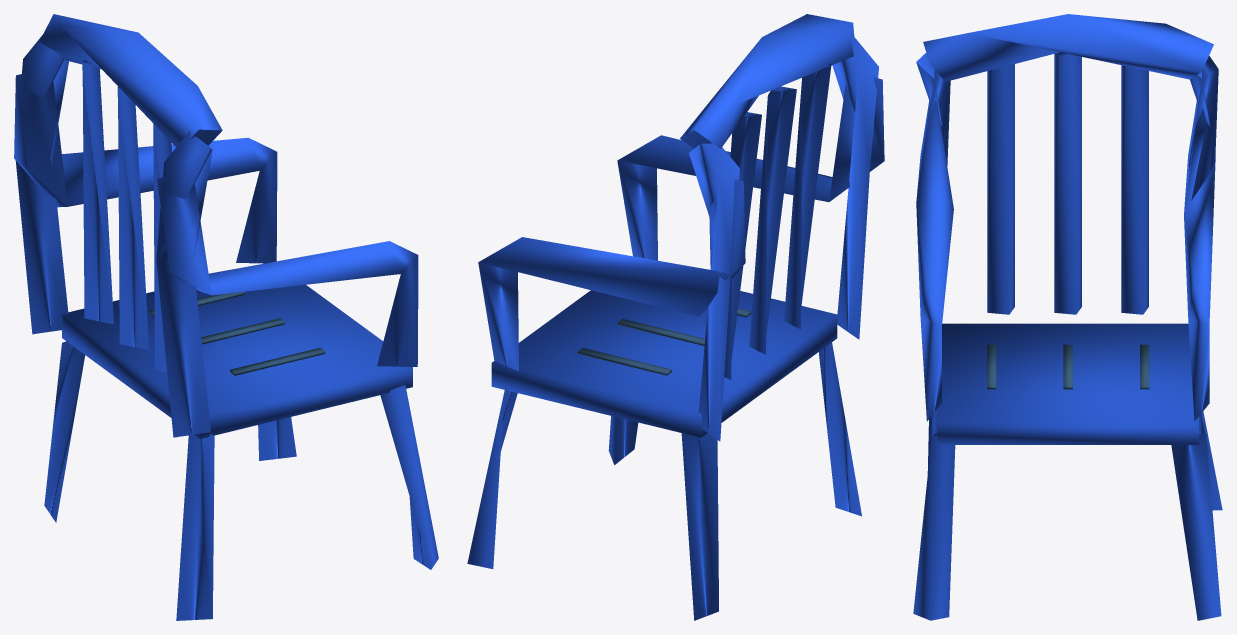
3 views of the same model, side by side, from view 1: azimuth 30°, elevation 25°; view 2: azimuth 150°, elevation 25°; view 3: azimuth 270°, elevation 25° (orthographic). The views are drawn at different scales.
Parts seen in each view (by area): view 1: root_pal_policeBlue, root_pal_packBlue; view 2: root_pal_policeBlue, root_pal_packBlue; view 3: root_pal_policeBlue, root_pal_packBlue.
Boxes of the visible parts, bbox=[...] form: root_pal_policeBlue: bbox=[14, 14, 438, 620]; root_pal_packBlue: bbox=[149, 292, 325, 375]; root_pal_policeBlue: bbox=[467, 14, 884, 620]; root_pal_packBlue: bbox=[577, 308, 751, 375]; root_pal_policeBlue: bbox=[913, 14, 1222, 620]; root_pal_packBlue: bbox=[987, 344, 1149, 389].
Bounding box in the file's own units: 0.6418 × 1.17 × 0.6475.
